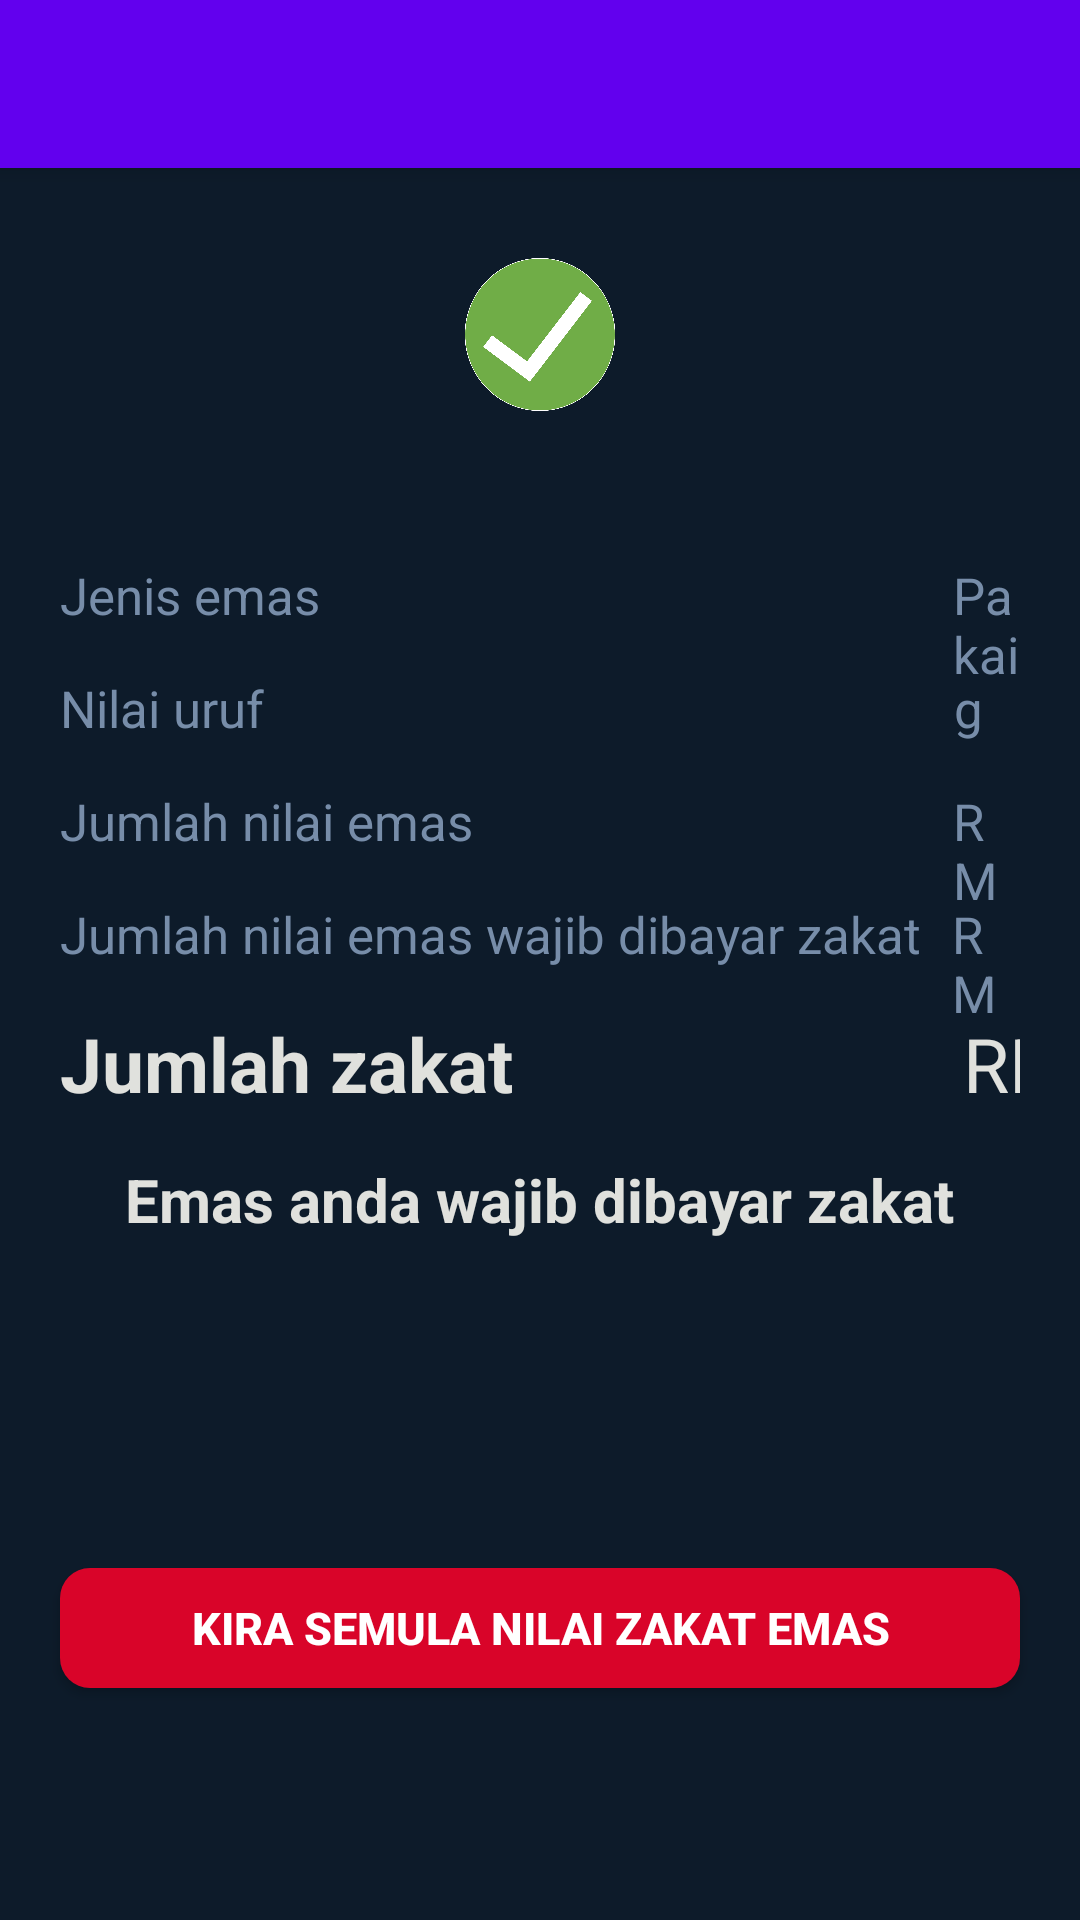

Named icons in this screenshot (1080 x 1920) and their bounding boxes, bbox=[x1, y1, x2, y2]:
tick: bbox=[465, 258, 615, 411]
